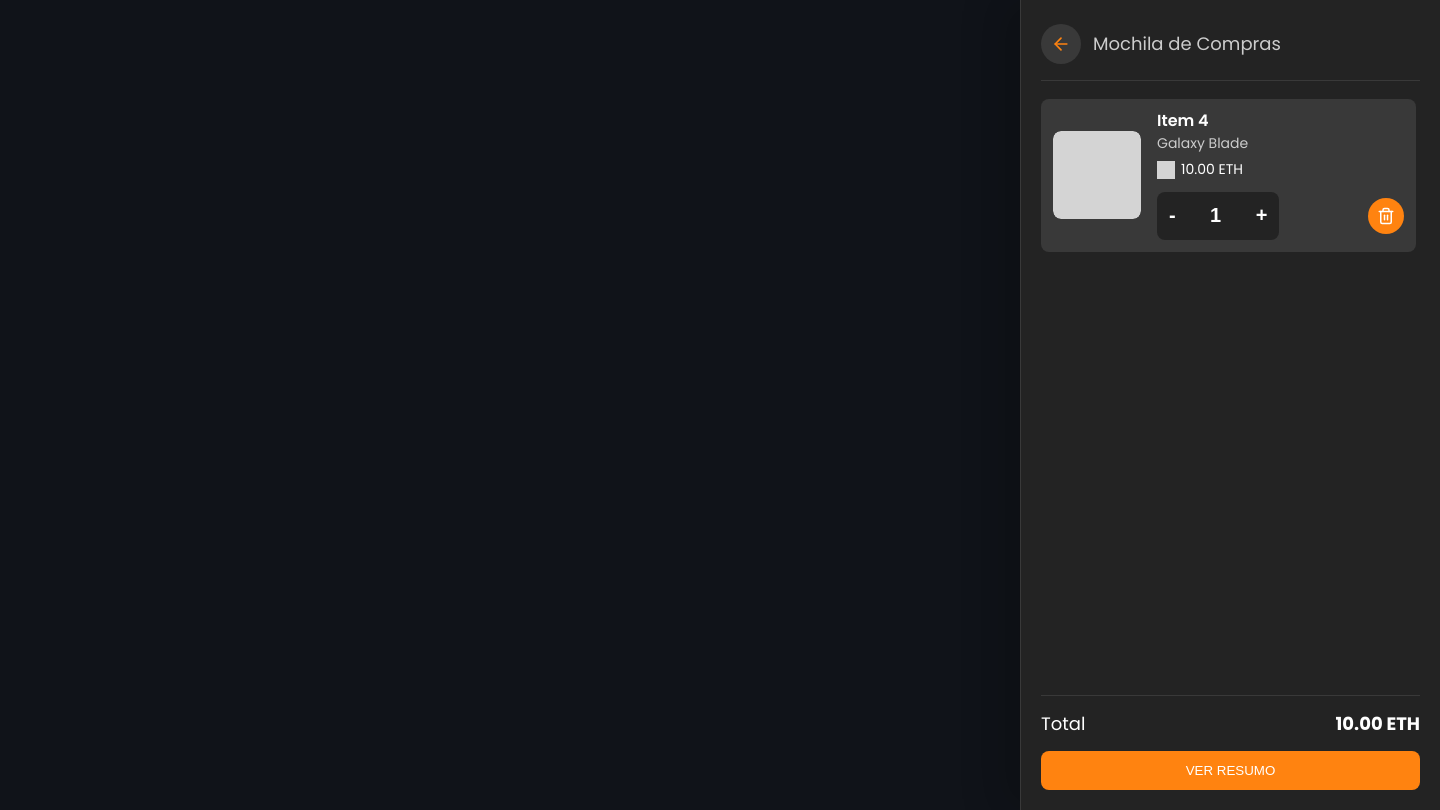
Test: CartDrawer › permite alterar quantidade e remover item
Click the button named "Aumentar quantidade" at (1262, 216), box x1=1244 y1=192 x2=1279 y2=240
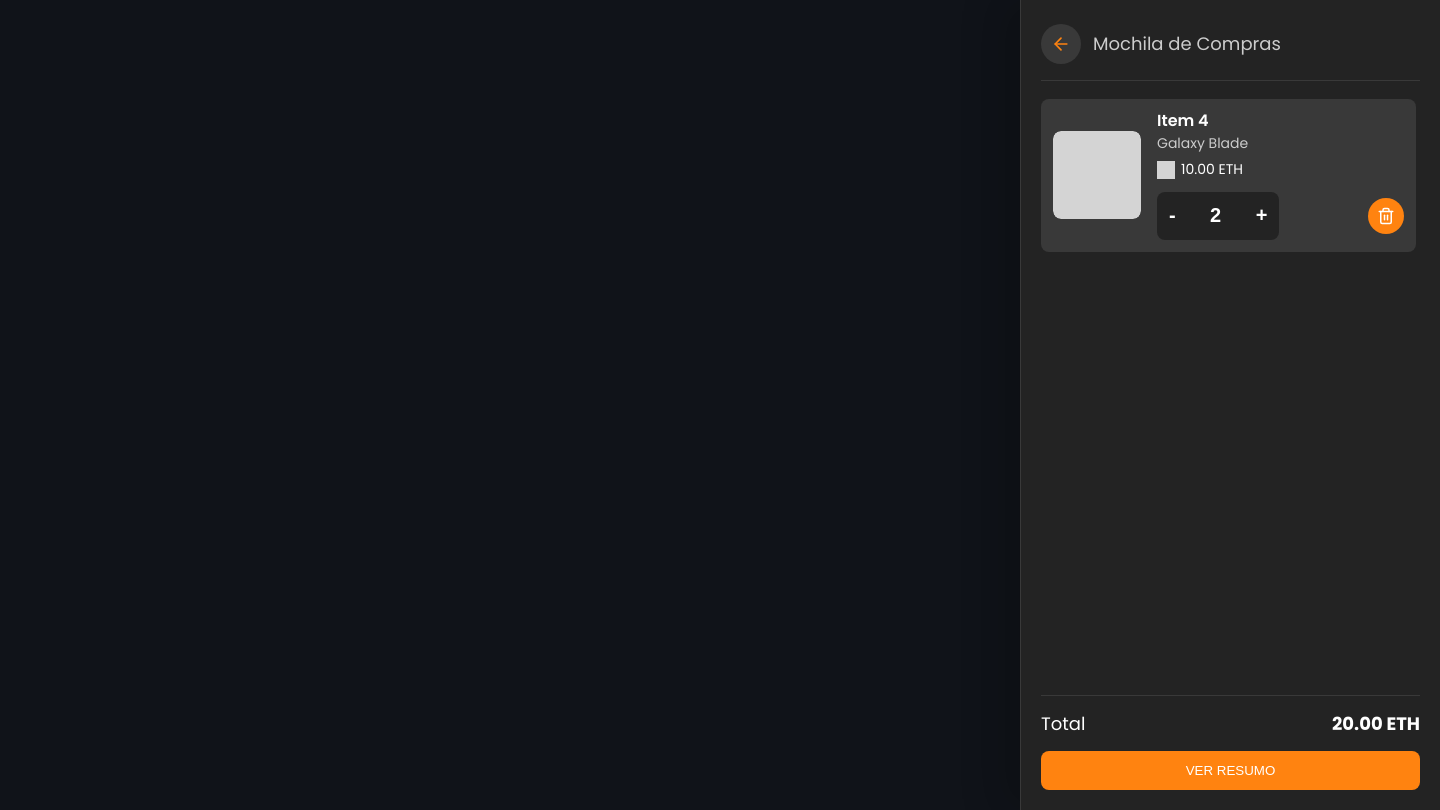
Expected: the button "Ver Resumo" is shown, x1=1041 y1=751 x2=1420 y2=790
Now the text "20.00 ETH" is shown, box x1=1332 y1=712 x2=1420 y2=735
Click the button named "Remover Galaxy Blade do carrinho" at (1386, 216), box x1=1368 y1=198 x2=1404 y2=234
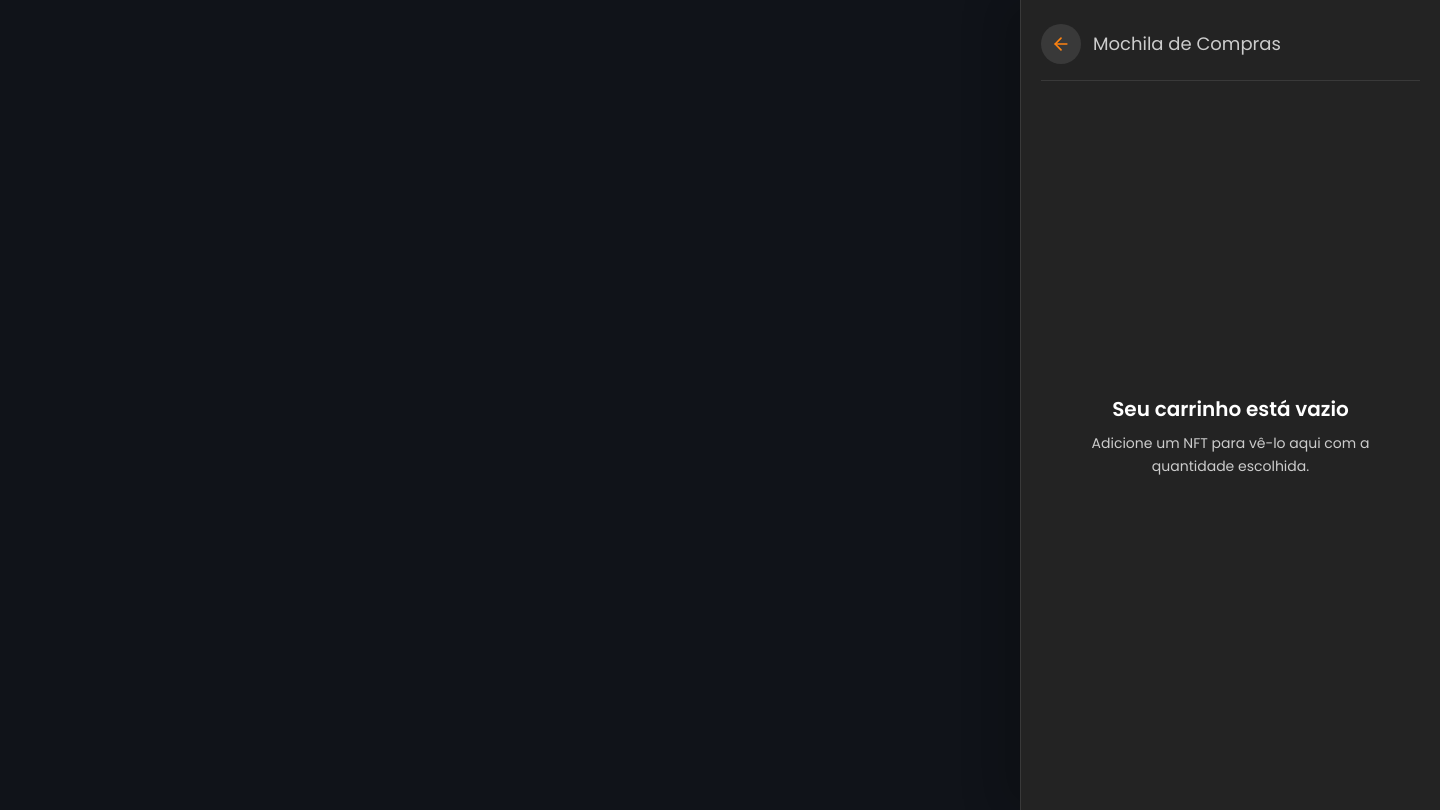
Now the text "Seu carrinho está vazio" is shown, box x1=1112 y1=394 x2=1349 y2=424
